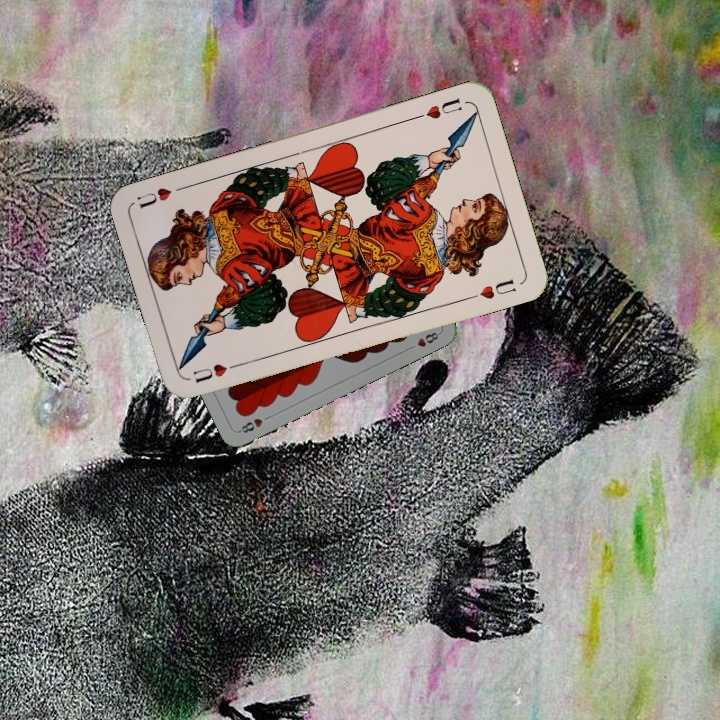H8: (235, 414, 265, 436)
HU: (410, 94, 465, 122), (189, 358, 244, 386)
